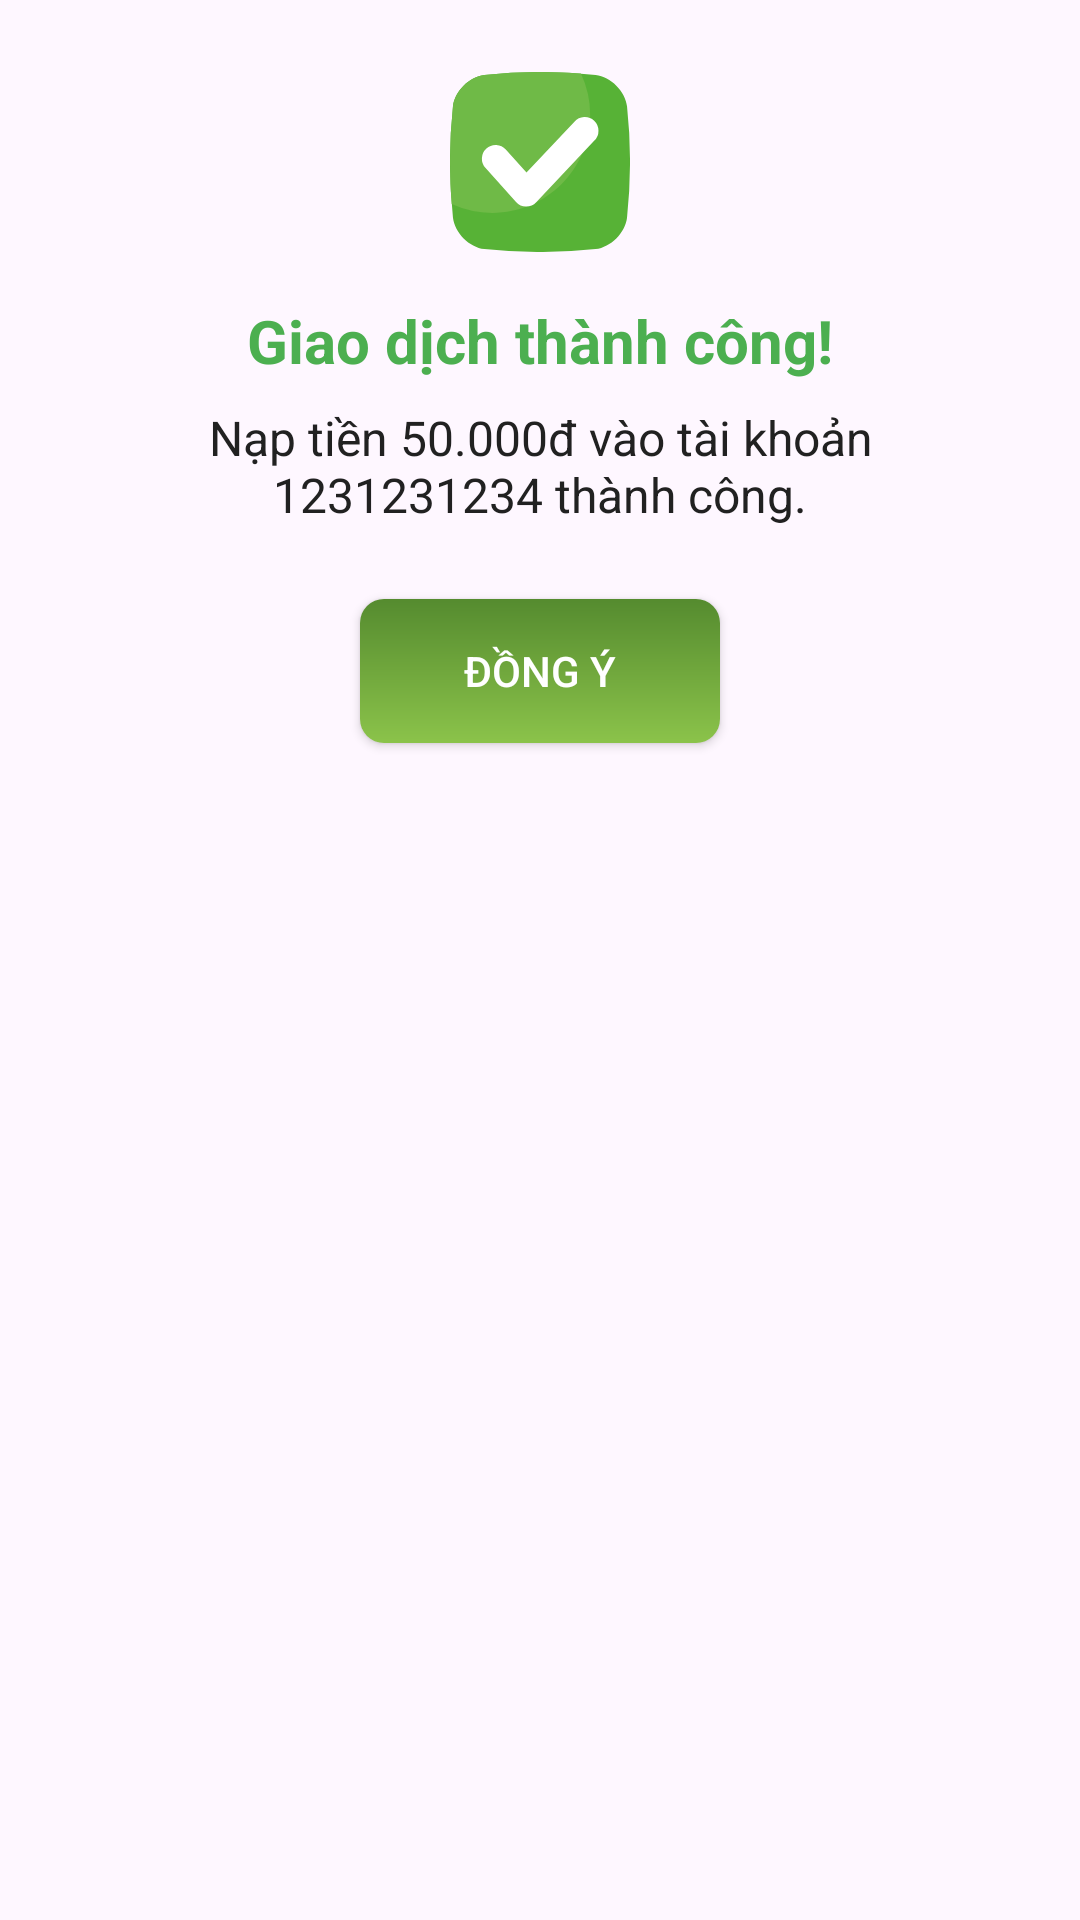

Screen size 1080 × 1920. Icon name, then its box in pixels as rect(x1, y1, x2, y2):
success check: rect(450, 72, 630, 252)
